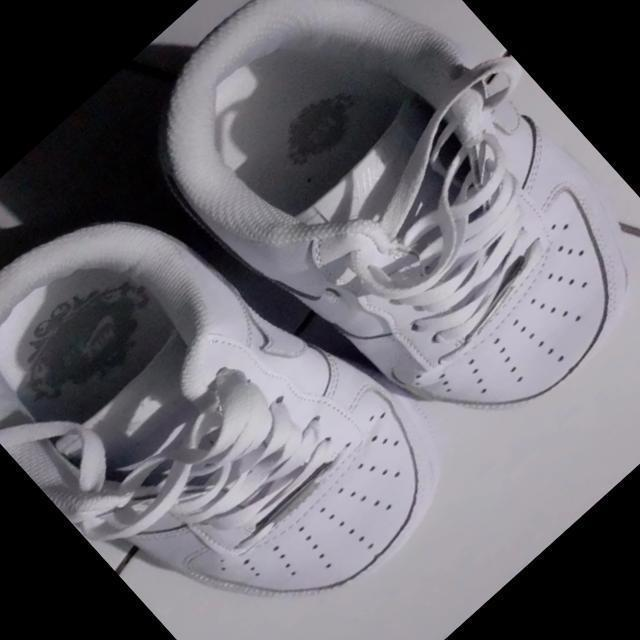nike fake air force: (108, 0, 640, 495), (0, 128, 474, 640)
